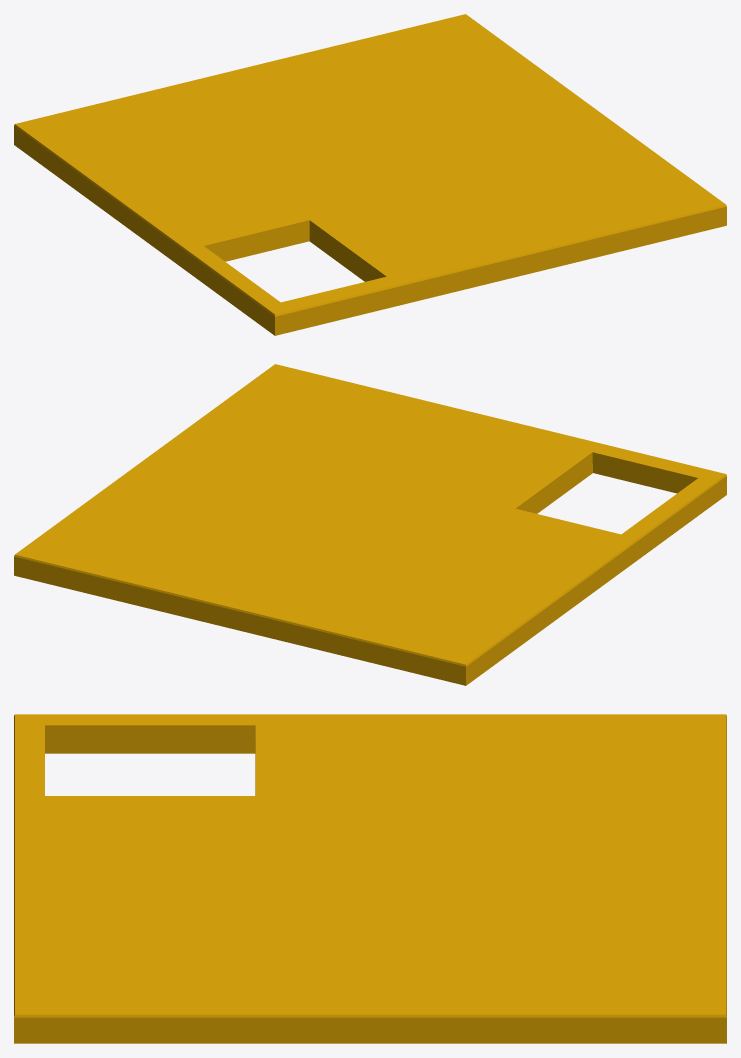
Rendered from Move_Game_SliderHole_09.fbx.
The picture shows the model from 3 angles, top to bottom: view 1: azimuth 30°, elevation 25°; view 2: azimuth 150°, elevation 25°; view 3: azimuth 270°, elevation 25°; orthographic projection. The views are drawn at different scales.
Visible parts, largest first — view 1: Move_Game_SliderHole_09; view 2: Move_Game_SliderHole_09; view 3: Move_Game_SliderHole_09.
Part boxes in pixels (x1,y1,x2,y2): Move_Game_SliderHole_09: (14, 14, 726, 335); Move_Game_SliderHole_09: (14, 364, 726, 685); Move_Game_SliderHole_09: (14, 714, 726, 1043).
Size of the model in its own units: 17.29 by 0.7676 by 17.29.
